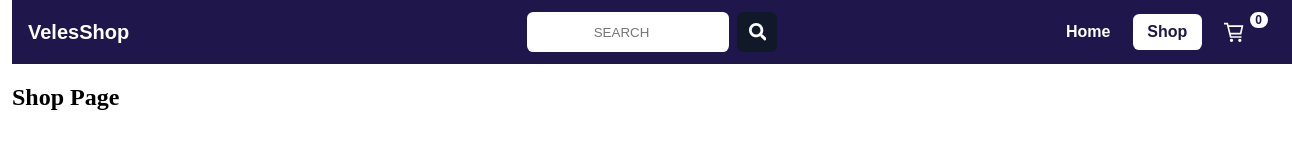
Scenario: NavBar › navigates to / when clicking the Home link
Click the link "Home".
click(1088, 32)  # box [1066,23,1110,40]
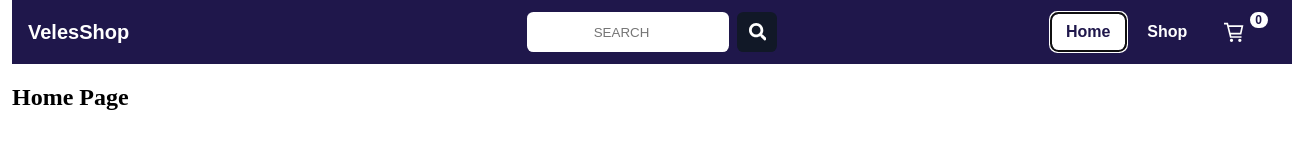
Expected: the heading "Home Page" is shown, [12,84,129,110]
